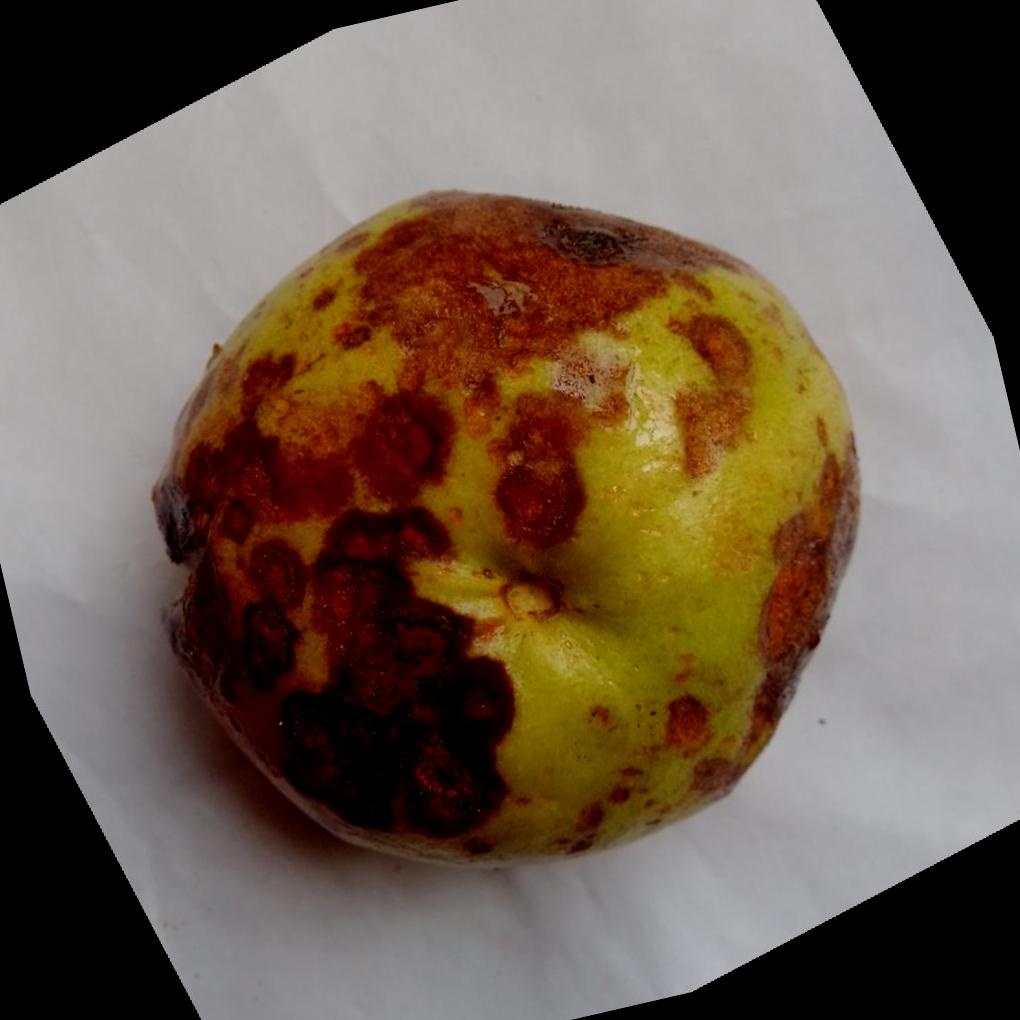FreshOrange: (150, 182, 863, 864)
